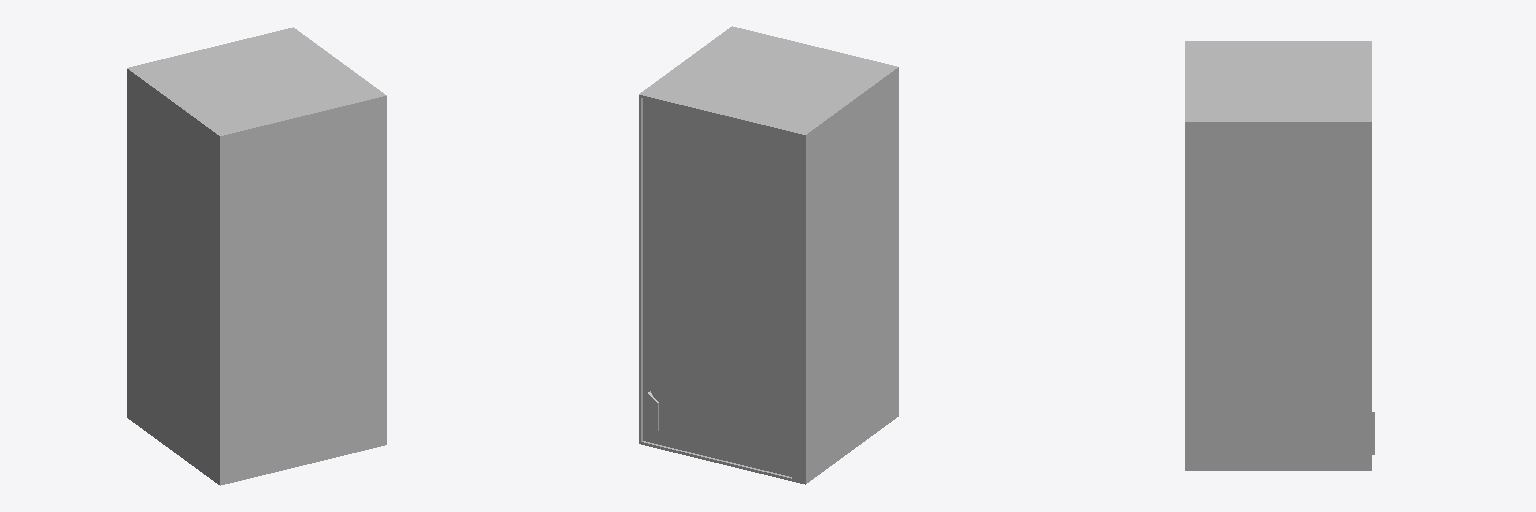
Rendered from placard_noir.obj.
3 views of the same model, side by side, from view 1: azimuth 30°, elevation 25°; view 2: azimuth 150°, elevation 25°; view 3: azimuth 270°, elevation 25° (orthographic).
Visible parts, largest first — view 1: cube.001; view 2: cube.003, cube.001; view 3: cube.001, cube.003.
Part boxes in pixels (x1,y1,x2,y2): cube.001: (127,29,386,485); cube.003: (639,92,797,481); cube.001: (642,26,898,484); cube.001: (1185,41,1371,470); cube.003: (1366,46,1371,470).
Size of the model in its own units: 1 by 2 by 0.9844.